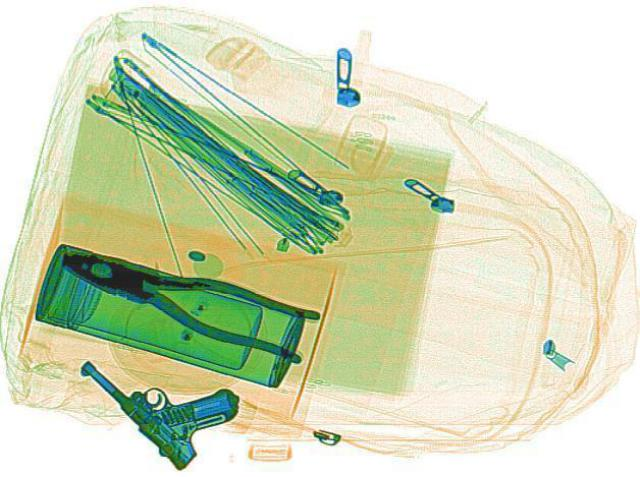Gun: (69, 322, 269, 471)
Pliers: (43, 234, 330, 363)
